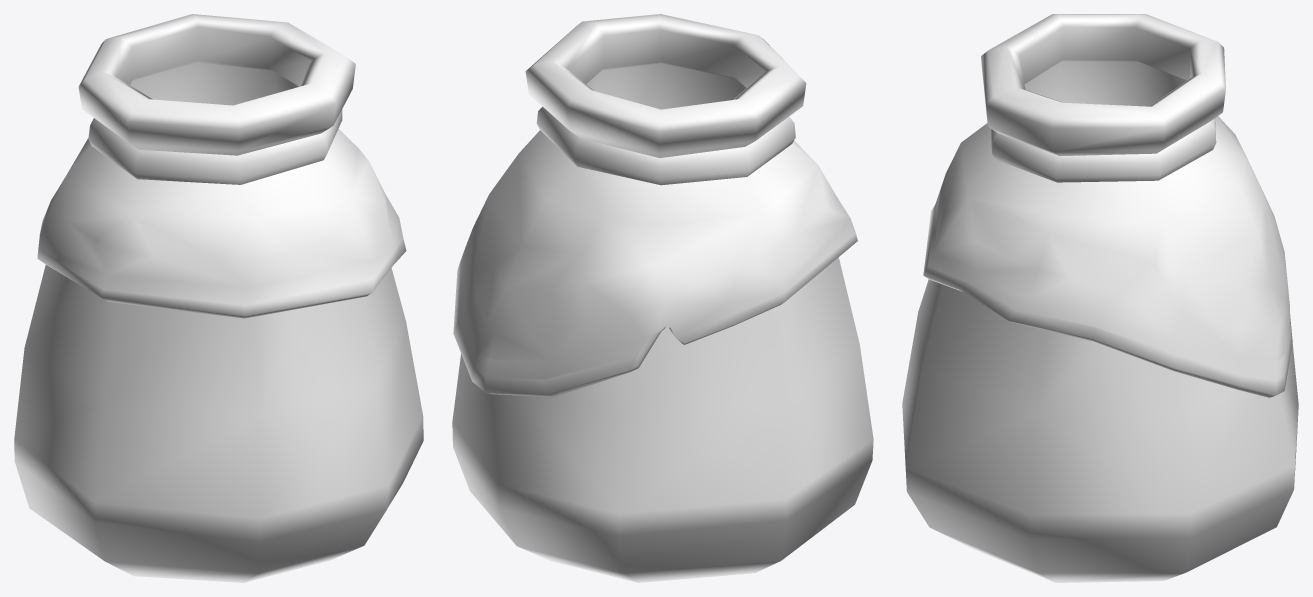
The model's file is Prop_AP21Basket.glb.
The picture shows the model from 3 angles, left to right: view 1: azimuth 30°, elevation 25°; view 2: azimuth 150°, elevation 25°; view 3: azimuth 270°, elevation 25°; orthographic projection.
Parts seen in each view (by area): view 1: Prop_AP21Basket; view 2: Prop_AP21Basket; view 3: Prop_AP21Basket.
Boxes of the visible parts, x1=… form: Prop_AP21Basket: x1=14, y1=14, x2=423, y2=582; Prop_AP21Basket: x1=452, y1=14, x2=873, y2=582; Prop_AP21Basket: x1=902, y1=14, x2=1298, y2=582.
Size of the model in its own units: 3.55 by 4.7 by 3.62.
1 material, 1 textured.
